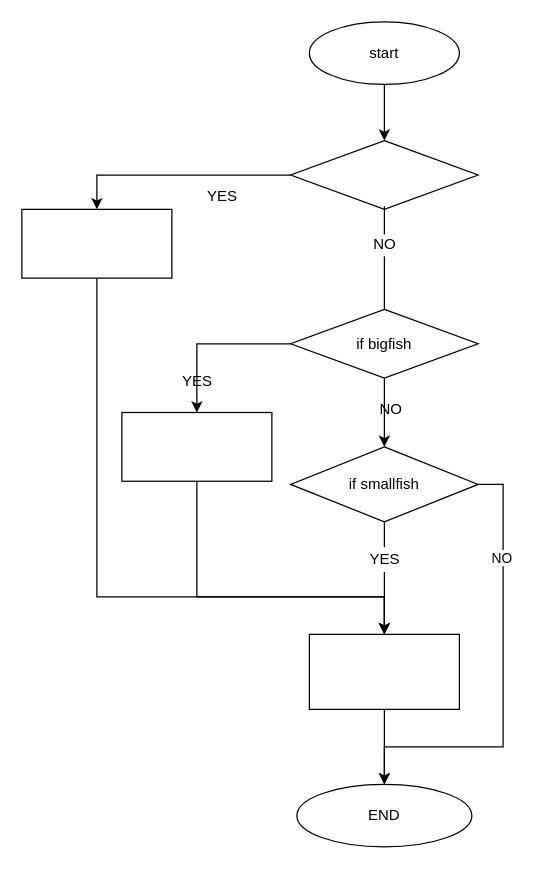
Image size: 535x869. Some labels were removed from this diagram. The centre of each missing label's shape, as x and y in pixels:
"if Hai" goes at pixel 383 174.
"move" goes at pixel 383 671.
